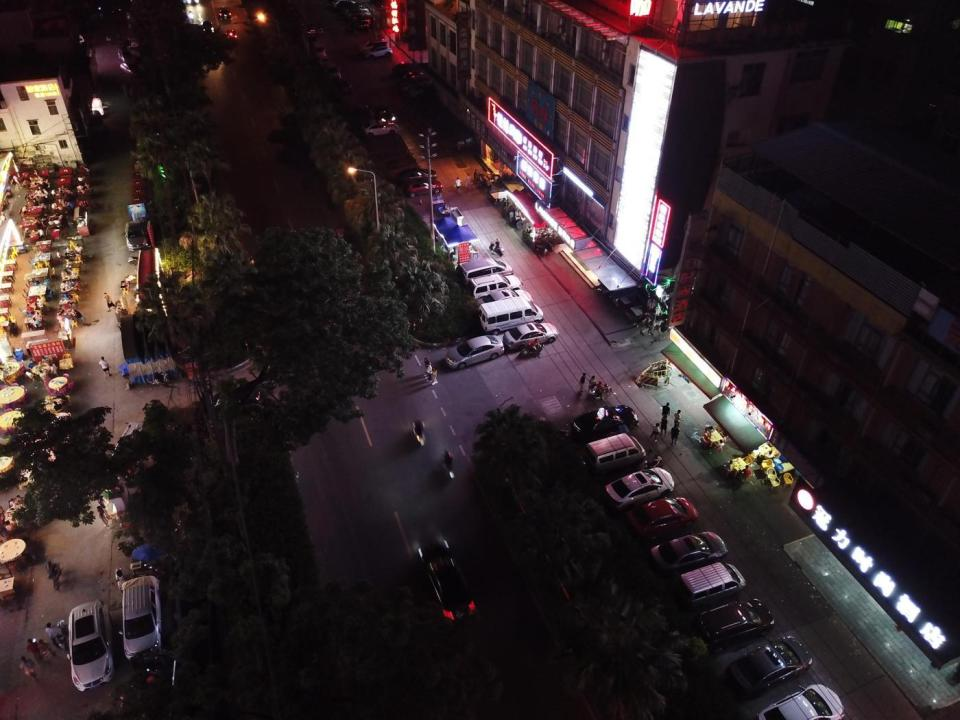car: (726, 634, 815, 702), (417, 540, 479, 624), (696, 597, 775, 653), (67, 601, 115, 692), (117, 576, 165, 660), (650, 530, 728, 576), (626, 496, 698, 544), (604, 467, 675, 514), (759, 683, 847, 720), (572, 404, 638, 440), (444, 334, 504, 370), (502, 321, 560, 350), (467, 273, 524, 301), (474, 289, 533, 315), (402, 176, 444, 198), (124, 219, 152, 251), (362, 98, 397, 123), (395, 168, 437, 184), (360, 120, 398, 136), (362, 45, 393, 60), (358, 38, 388, 53), (324, 62, 342, 81), (202, 18, 215, 36), (223, 28, 238, 43), (218, 6, 232, 21), (317, 54, 331, 68)
van: (680, 562, 747, 610), (582, 434, 646, 478), (478, 296, 544, 336), (107, 420, 148, 480), (456, 258, 514, 287), (311, 40, 327, 58)
